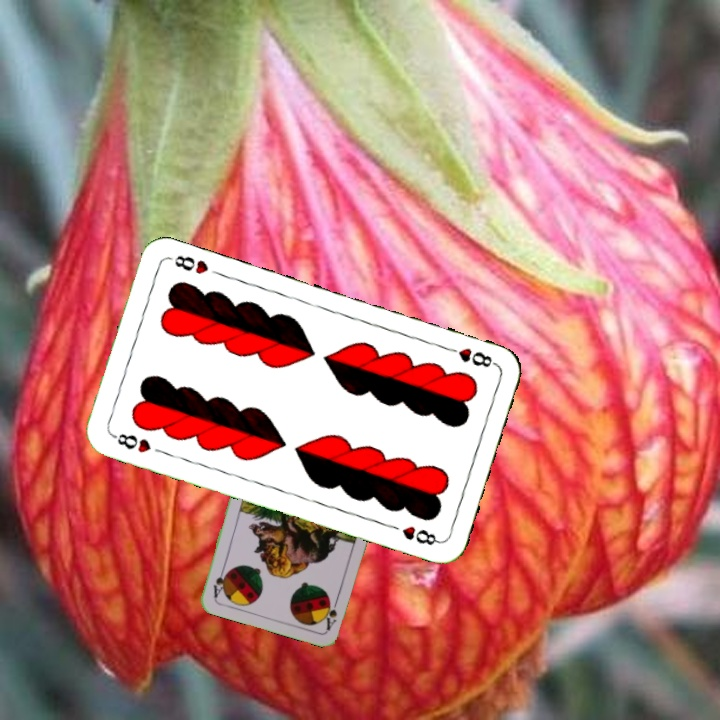H8: (441, 343, 499, 370), (108, 429, 154, 456)
SA: (321, 592, 341, 633)
